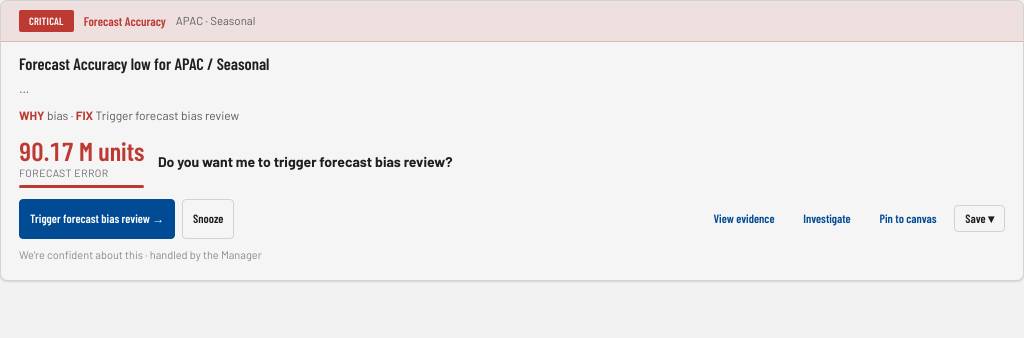
Test: DecisionPromptCard — pin to canvas › shows an error and pins nothing when a parameter can't be derived
Click the button with class "dpc__pin" at (908, 219), box [868,199,948,239]
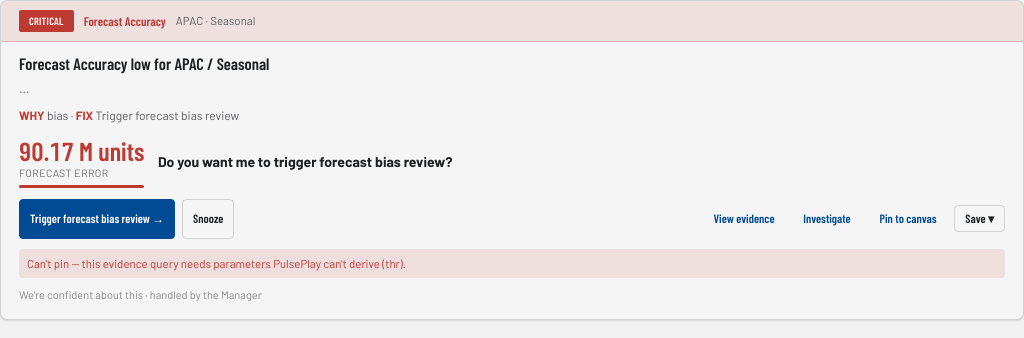
expect the message with class "dpc__pin-error" shows "thr": met, box [27,256,406,270]
